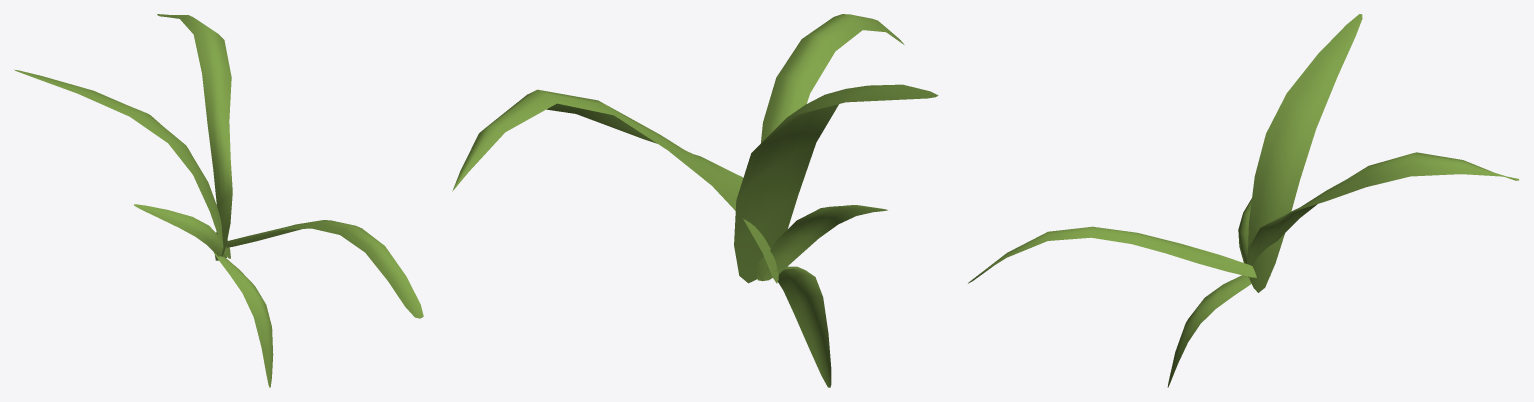
Rendered from object_GEO-leaf_grass_001.glb.
The picture shows the model from 3 angles, left to right: view 1: azimuth 30°, elevation 25°; view 2: azimuth 150°, elevation 25°; view 3: azimuth 270°, elevation 25°; orthographic projection. The views are drawn at different scales.
Parts seen in each view (by area): view 1: GEO-leaf.grass.001; view 2: GEO-leaf.grass.001; view 3: GEO-leaf.grass.001.
Boxes of the visible parts, x1,y1,x2,y2 form: GEO-leaf.grass.001: (14, 14, 423, 387); GEO-leaf.grass.001: (452, 14, 938, 387); GEO-leaf.grass.001: (968, 14, 1518, 387).
Size of the model in its own units: 0.1035 by 0.1214 by 0.207.
